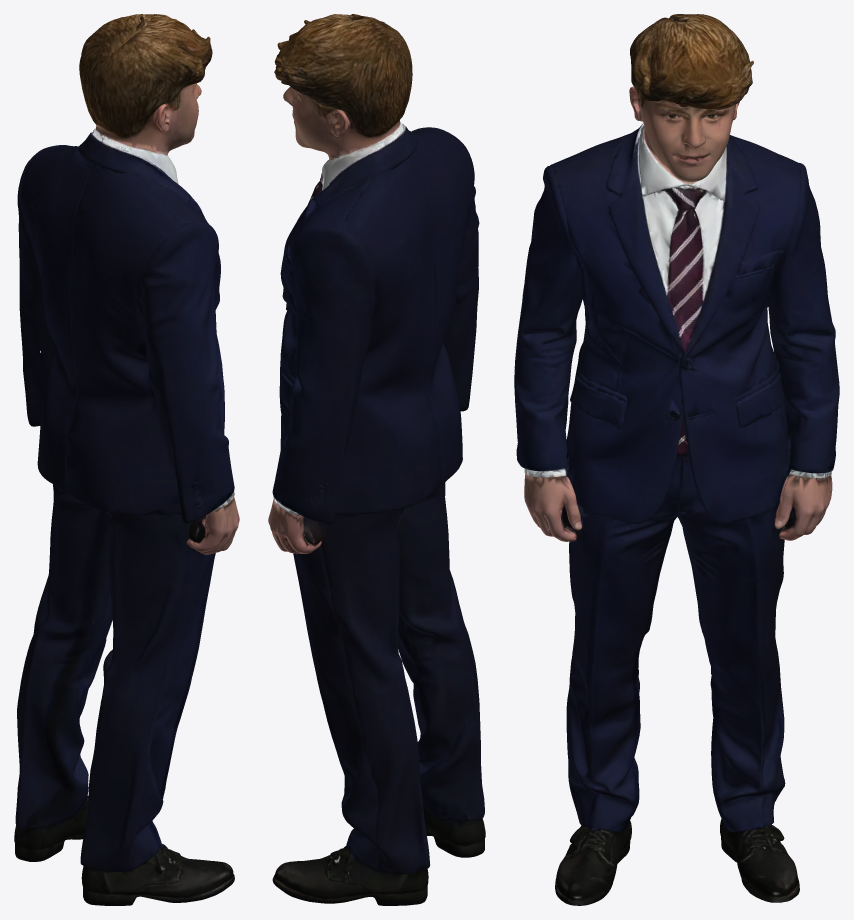
File: ernesto.glb
3 renders of one model, left to right at view 1: azimuth 30°, elevation 25°; view 2: azimuth 150°, elevation 25°; view 3: azimuth 270°, elevation 25°, orthographic. The views are drawn at different scales.
Visible parts, largest first — view 1: tripo_node_6a0606cd-5cfb-4f1e-97d5-8e4ecce283c2; view 2: tripo_node_6a0606cd-5cfb-4f1e-97d5-8e4ecce283c2; view 3: tripo_node_6a0606cd-5cfb-4f1e-97d5-8e4ecce283c2.
Part boxes in pixels (x1=…): tripo_node_6a0606cd-5cfb-4f1e-97d5-8e4ecce283c2: x1=14, y1=14, x2=239, y2=905; tripo_node_6a0606cd-5cfb-4f1e-97d5-8e4ecce283c2: x1=268, y1=14, x2=485, y2=905; tripo_node_6a0606cd-5cfb-4f1e-97d5-8e4ecce283c2: x1=514, y1=14, x2=839, y2=905.
Size of the model in its own units: 0.2079 by 0.9795 by 0.3302.
Materials: 1 (1 with a texture image).
